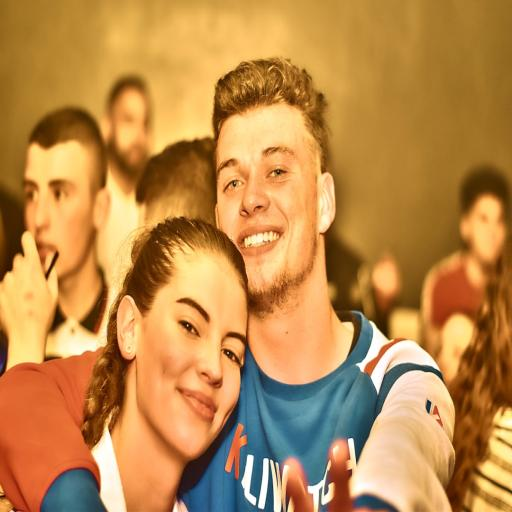face: (135, 252, 247, 460), (216, 104, 322, 303), (24, 141, 96, 280)
